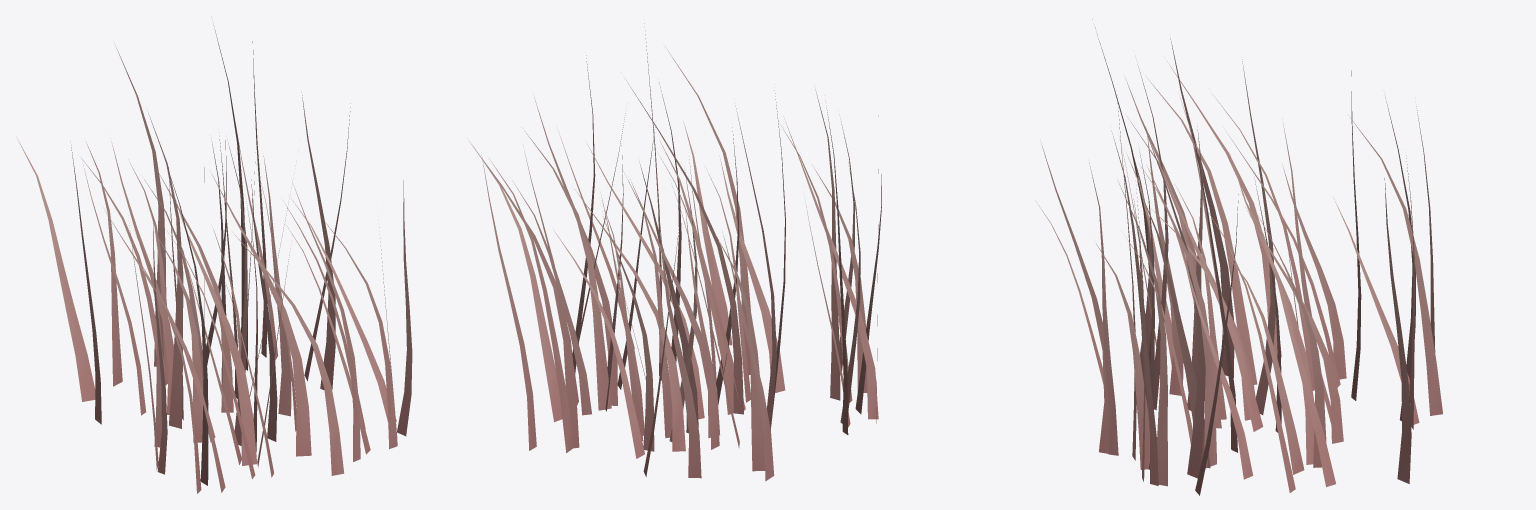
File: mesh-plant-005-tideblade_LOD1.glb
3 renders of one model, left to right at view 1: azimuth 30°, elevation 25°; view 2: azimuth 150°, elevation 25°; view 3: azimuth 270°, elevation 25°, orthographic. The views are drawn at different scales.
Visible parts, largest first — view 1: geometry_0; view 2: geometry_0; view 3: geometry_0.
Part boxes in pixels (x1,y1,x2,y2): geometry_0: [16, 25, 412, 493]; geometry_0: [469, 23, 881, 481]; geometry_0: [1035, 27, 1442, 495].
Bounding box in the file's own units: 2.22 × 1.84 × 2.44.
